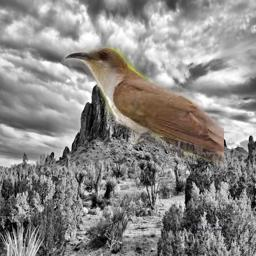Cuckoo: (61, 47, 224, 167)
